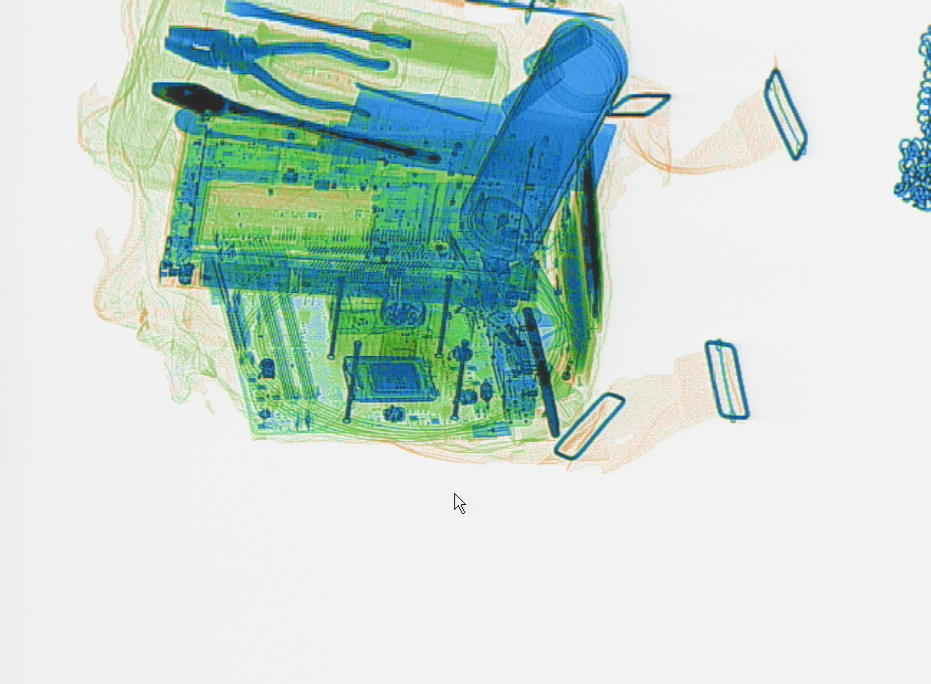knife: (175, 85, 616, 194)
lighter: (546, 307, 594, 401)
